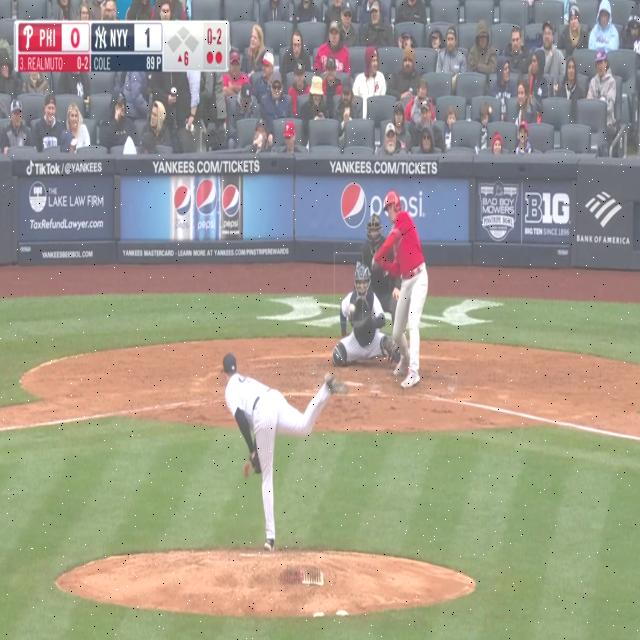baseball: (349, 303, 355, 313)
